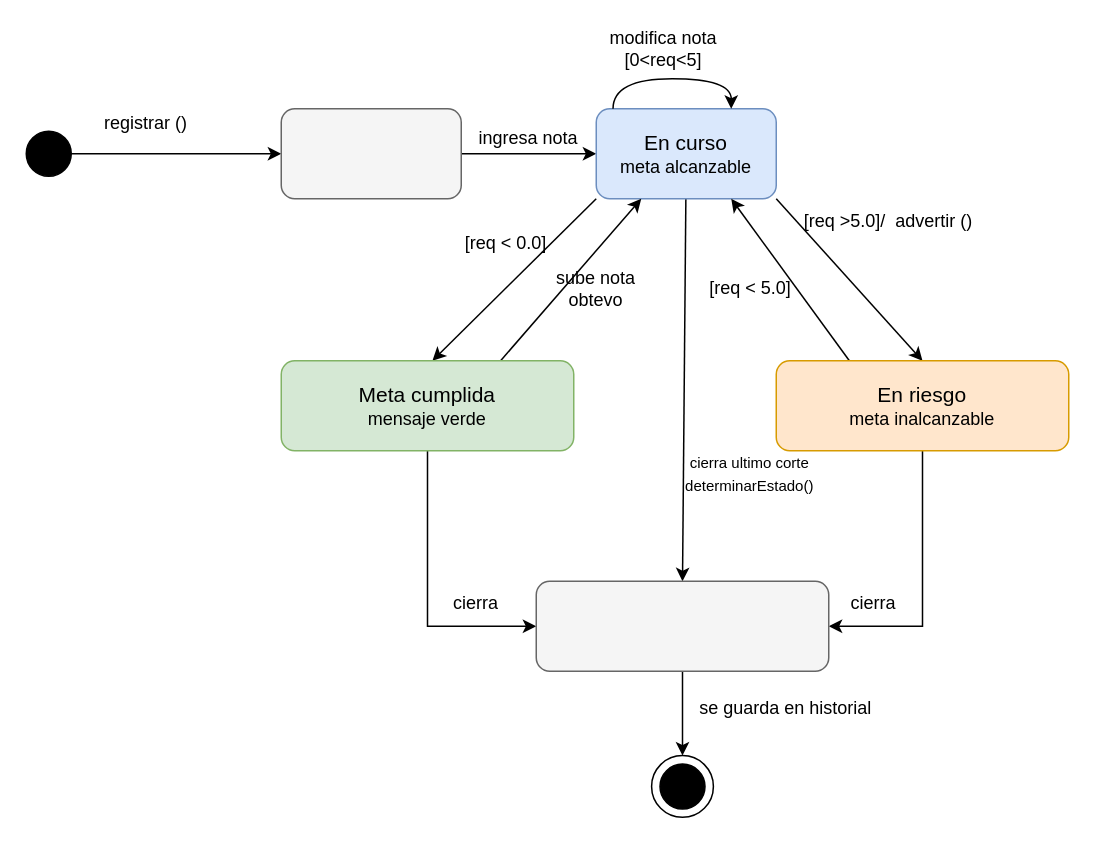
Some shapes in this 1095 by 843 pixel diagram are drawn without their labels. Each missing label, with the centre of its shape:
Cerrada aprobada o reprobada: the point at 682,625
Registrada Sin notas: the point at 370,153
